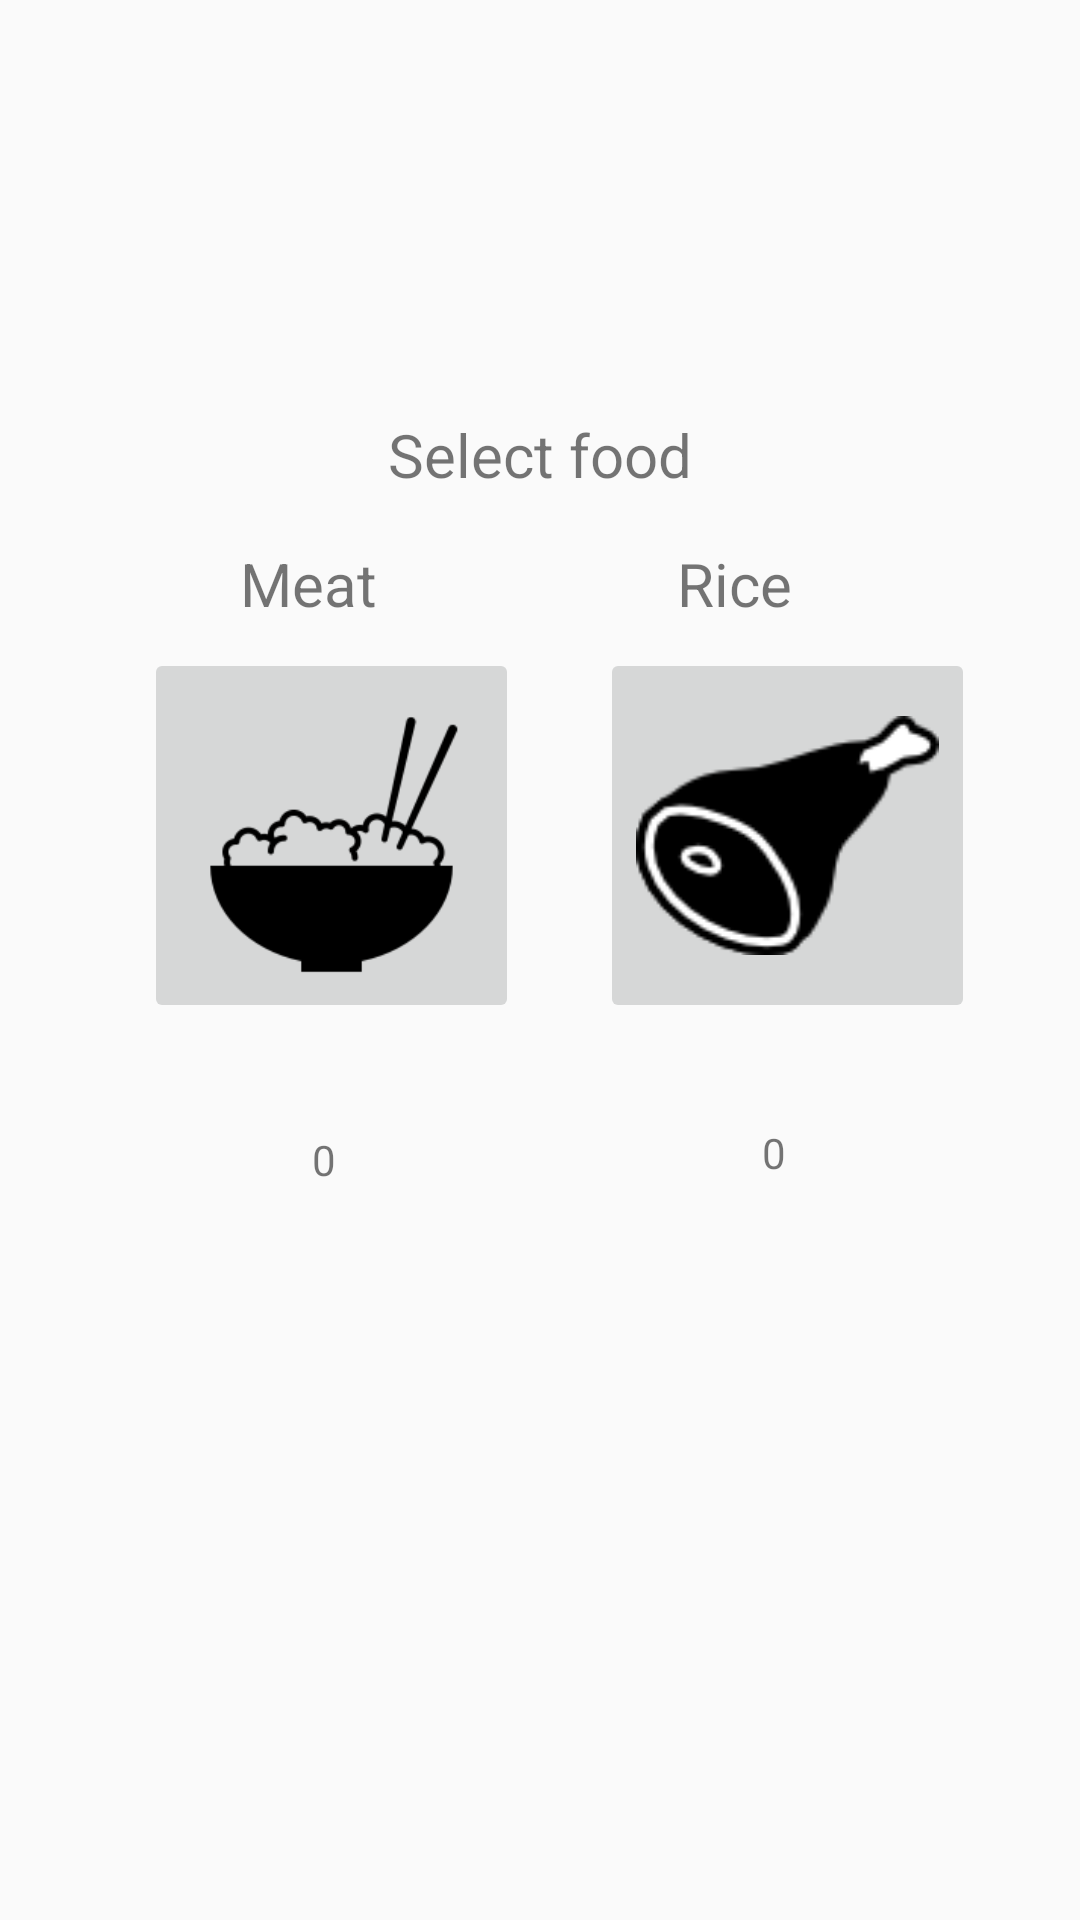

Icons on this 1080×1920 Android screen, each with the point to tap as [x,y]:
meat: [787,835]
rice: [331,835]
